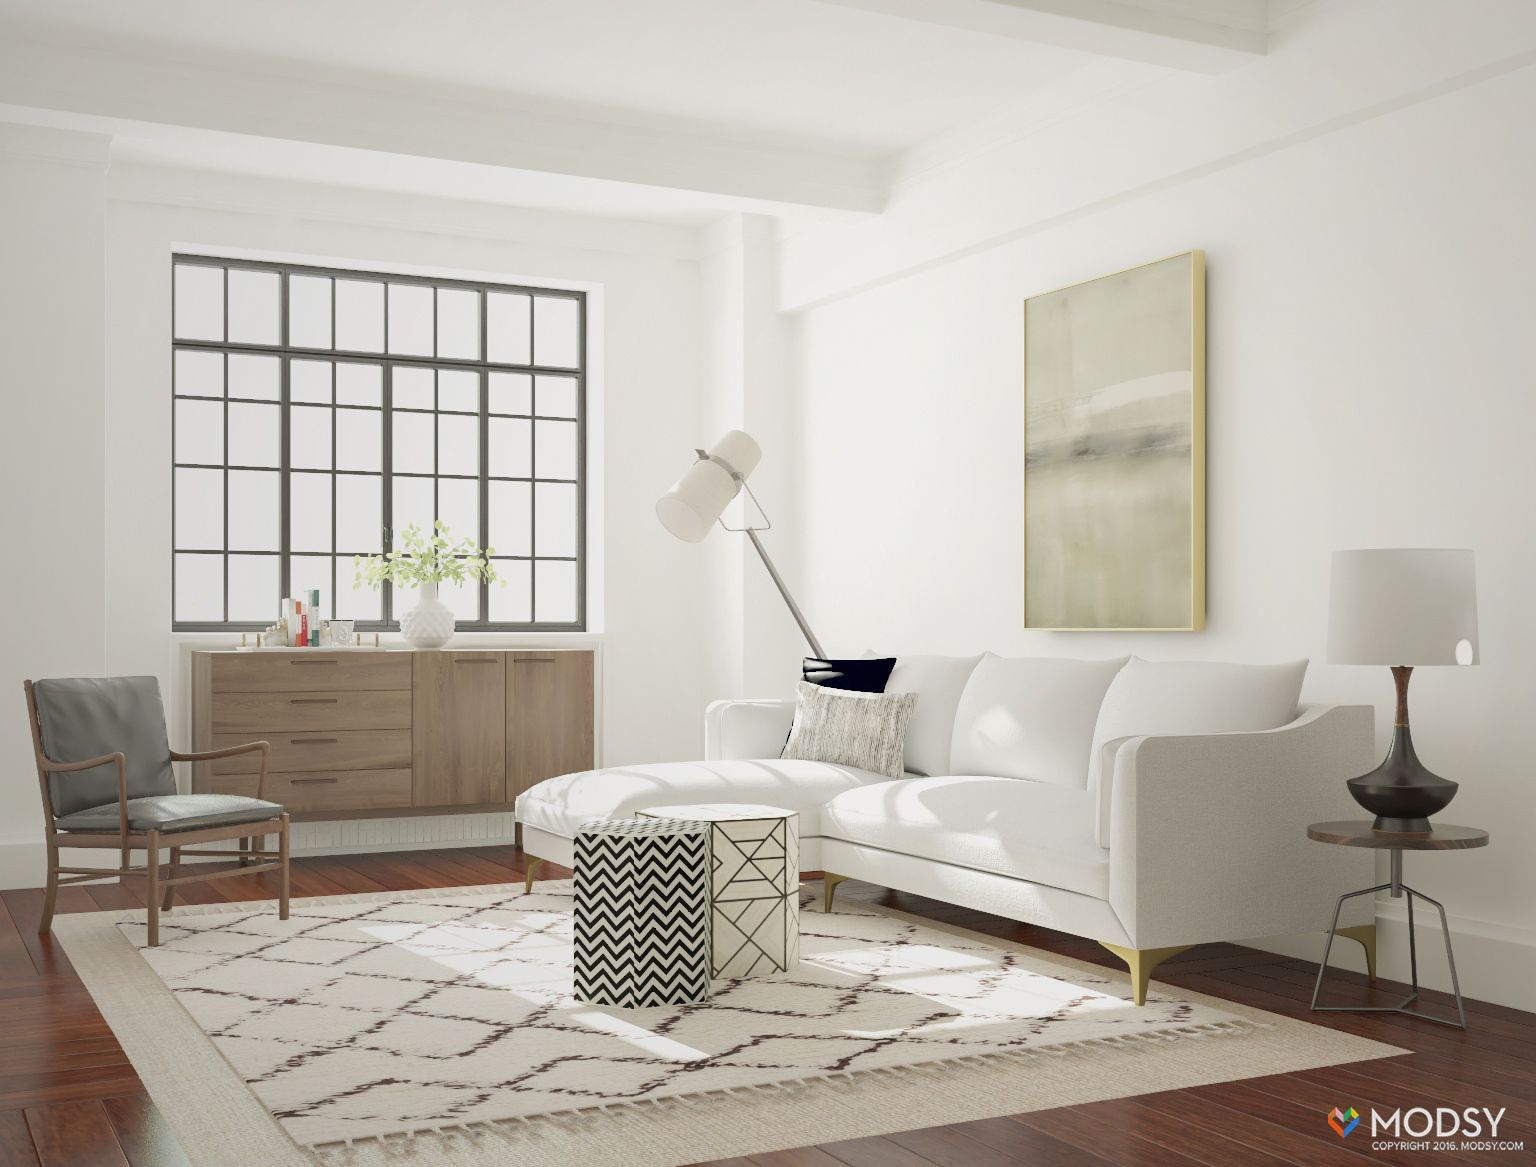chair: (20, 667, 295, 950)
floor lamp: (658, 418, 853, 656)
flower vase: (360, 523, 503, 653)
side table: (1299, 823, 1489, 1038)
sofa: (508, 644, 1393, 1013)
table: (563, 799, 803, 1014)
table lamp: (1317, 541, 1487, 834)
wall art: (1011, 241, 1222, 641)
